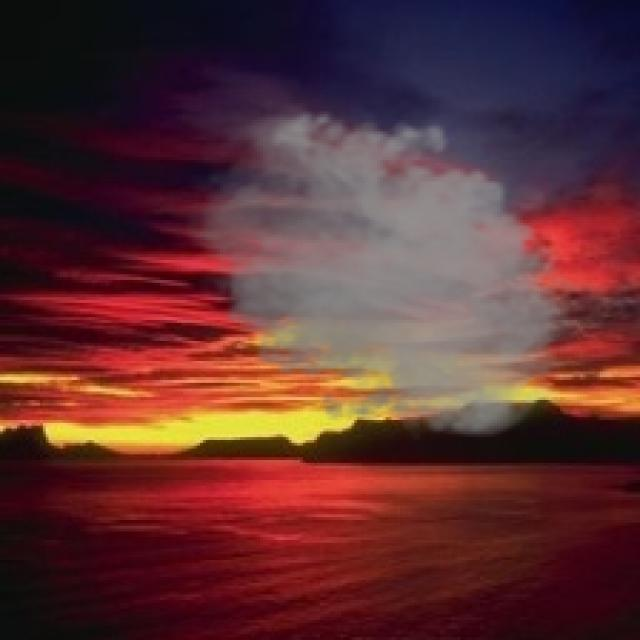Smoke: (171, 100, 583, 443)
